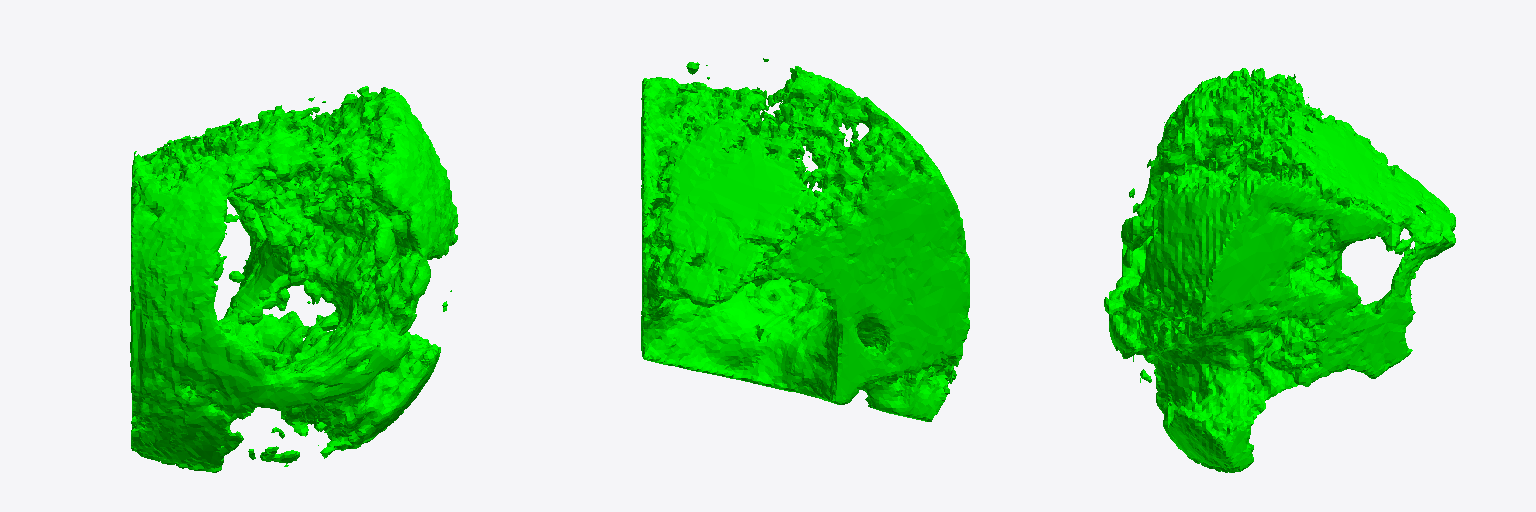
File: B939XXXX-1_base_27.obj
3 renders of one model, left to right at view 1: azimuth 30°, elevation 25°; view 2: azimuth 150°, elevation 25°; view 3: azimuth 270°, elevation 25°, orthographic.
Visible parts, largest first — view 1: 27_base; view 2: 27_base; view 3: 27_base.
Part boxes in pixels (x1,y1,x2,y2): 27_base: (130, 86, 458, 472); 27_base: (641, 58, 969, 421); 27_base: (1104, 68, 1455, 472).
Bounding box in the file's own units: 219 × 219 × 205.